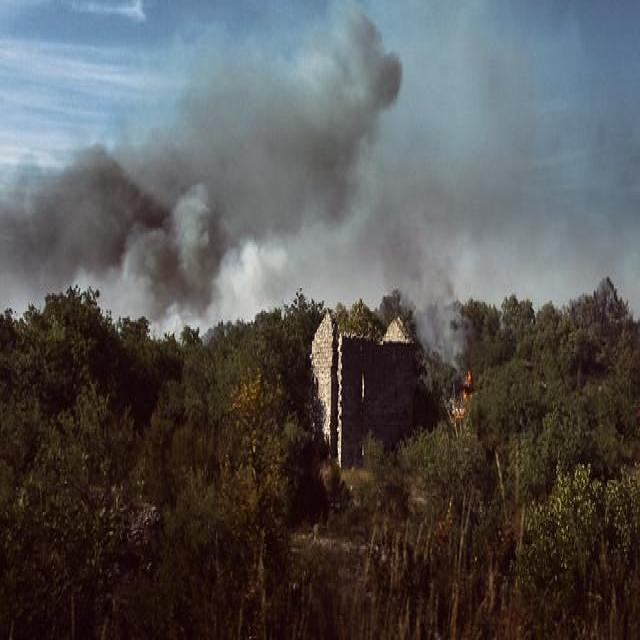fire: (440, 358, 487, 428)
smoke: (8, 3, 416, 302)
